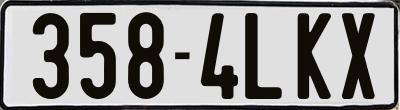3: (31, 10, 72, 100)
4: (198, 12, 235, 104)
5: (79, 13, 116, 102)
8: (126, 10, 166, 98)
K: (296, 12, 332, 102)
L: (244, 10, 284, 98)
X: (340, 11, 375, 101)
